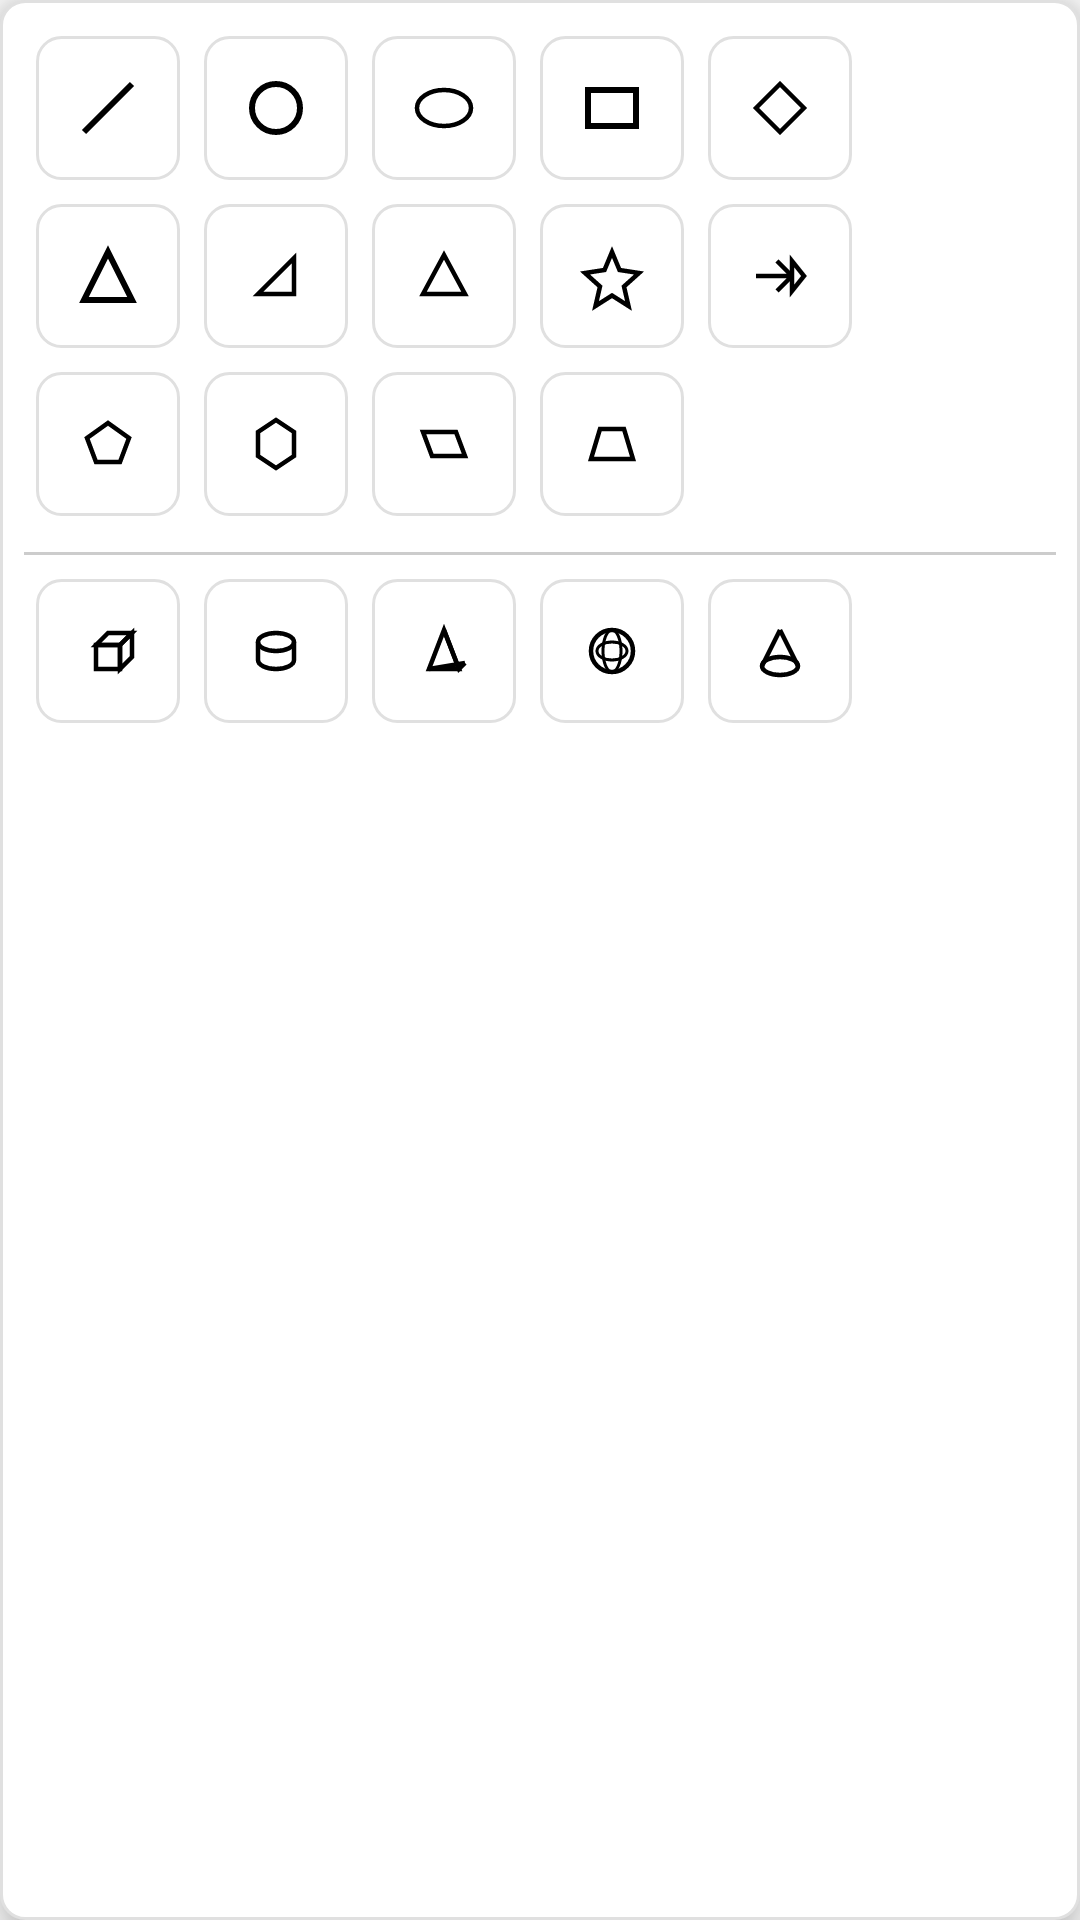

Icon bounding boxes for this 1080x1920 phone screenshot, format BBox(x1, y1, x2, y2):
hexagon: BBox(204, 372, 348, 516)
isosceles triangle: BBox(372, 204, 516, 348)
parallelogram: BBox(372, 372, 516, 516)
pentagon: BBox(36, 372, 180, 516)
انتخاب ابزار استوانه: BBox(204, 579, 348, 723)
انتخاب ابزار خط: BBox(36, 36, 180, 180)
انتخاب ابزار دایره: BBox(204, 36, 348, 180)
انتخاب ابزار ذوزنقه: BBox(540, 372, 684, 516)
انتخاب ابزار ستاره: BBox(540, 204, 684, 348)
انتخاب ابزار فلش: BBox(708, 204, 852, 348)
انتخاب ابزار لوزی: BBox(708, 36, 852, 180)
انتخاب ابزار مثلث: BBox(36, 204, 180, 348)
انتخاب ابزار مثلث قائم: BBox(204, 204, 348, 348)
انتخاب ابزار مخروط: BBox(708, 579, 852, 723)
انتخاب ابزار مکعب: BBox(36, 579, 180, 723)
انتخاب ابزار هرم: BBox(372, 579, 516, 723)
انتخاب ابزار کره: BBox(540, 579, 684, 723)
